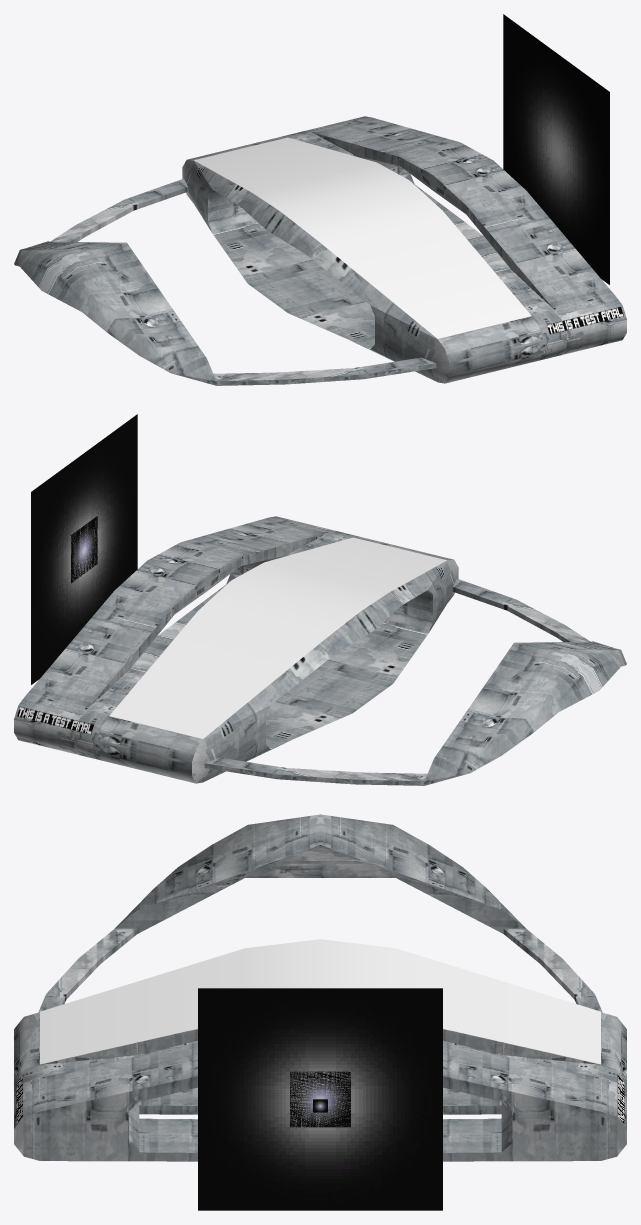
Rendered from stw13.obj.
3 views of the same model, one above another, from view 1: azimuth 30°, elevation 25°; view 2: azimuth 150°, elevation 25°; view 3: azimuth 270°, elevation 25° (orthographic). The views are drawn at different scales.
Parts seen in each view (by area): view 1: T_TRADER_WING_0, DECAL010.009, LFGREEN010.003, DECAL020.006, NAMEDECAL880; view 2: T_TRADER_WING_0, DECAL020.006, LFGREEN010.003, DECAL010.009, LFRED010.003, NAMEDECAL880; view 3: T_TRADER_WING_0, LFRED010.003, LFGREEN010.003, DECAL010.009, DECAL020.006, NAMEDECAL880.
Boxes of the visible parts, x1,y1,x2,y2 form: T_TRADER_WING_0: (14,116,626,385); DECAL010.009: (281,180,531,338); LFGREEN010.003: (503,14,609,284); DECAL020.006: (194,137,409,211); NAMEDECAL880: (547,307,623,334); T_TRADER_WING_0: (14,516,626,785); DECAL020.006: (109,580,359,738); LFGREEN010.003: (31,427,137,684); DECAL010.009: (231,537,446,611); LFRED010.003: (73,414,137,631); NAMEDECAL880: (17,706,93,734); T_TRADER_WING_0: (14,814,626,1161); LFRED010.003: (198,988,442,1210); LFGREEN010.003: (198,988,442,1210); DECAL010.009: (40,939,320,1064); DECAL020.006: (320,939,600,1064); NAMEDECAL880: (16,1075,624,1124).
Size of the model in its own units: 68.39 by 24 by 60.03.
Materials: 8 (8 with a texture image).
